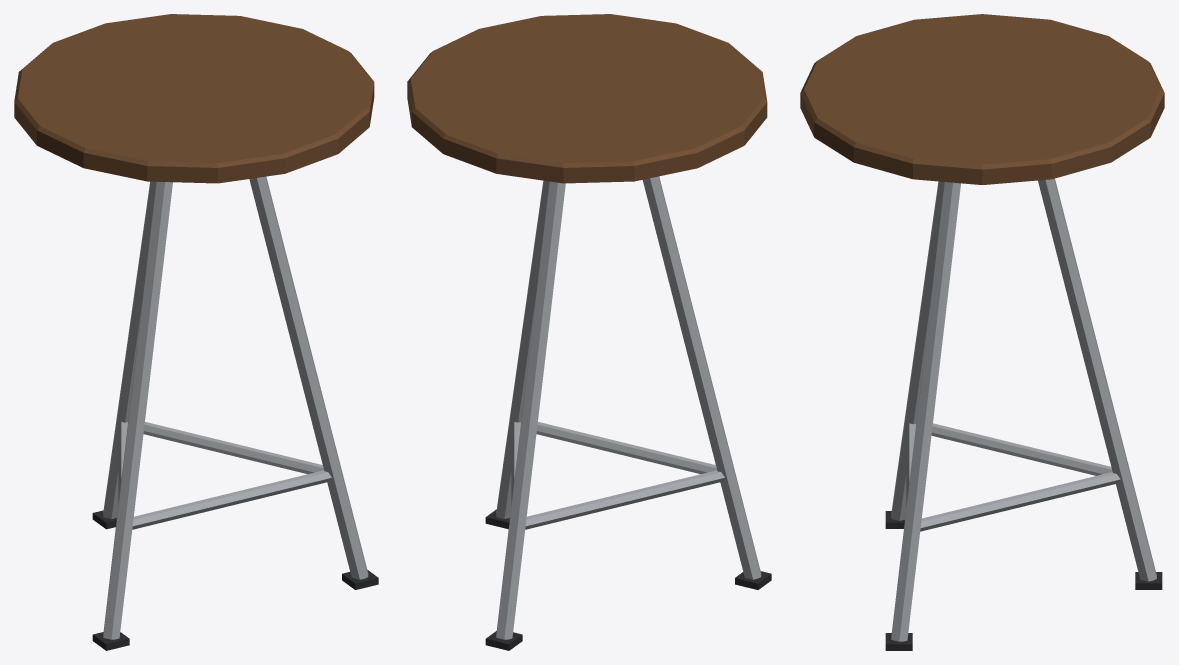
The model's file is FN_Table_Poseur.obj.
3 views of the same model, side by side, from view 1: azimuth 30°, elevation 25°; view 2: azimuth 150°, elevation 25°; view 3: azimuth 270°, elevation 25° (orthographic).
Parts seen in each view (by area): view 1: FN_Table_Poseur; view 2: FN_Table_Poseur; view 3: FN_Table_Poseur.
Part boxes in pixels (x1,y1,x2,y2): FN_Table_Poseur: (14,14,378,650); FN_Table_Poseur: (407,14,771,650); FN_Table_Poseur: (800,14,1164,650).
Bounding box in the file's own units: 0.7 × 1.05 × 0.7.
1 material, 1 textured.
